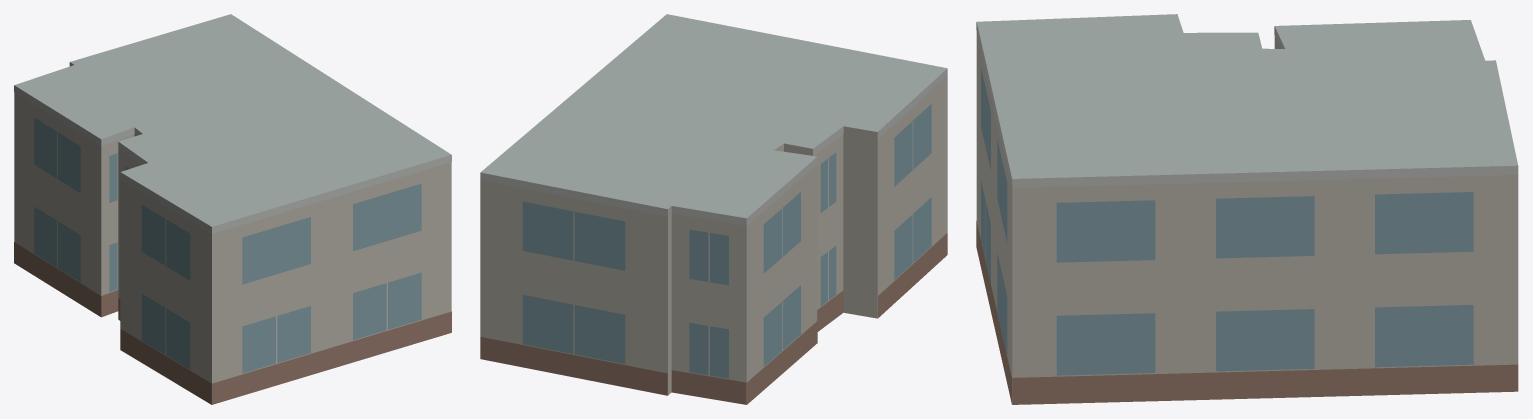
The model's file is survey-upis-32924186.glb.
3 renders of one model, left to right at view 1: azimuth 30°, elevation 25°; view 2: azimuth 150°, elevation 25°; view 3: azimuth 270°, elevation 25°, orthographic. The views are drawn at different scales.
Parts seen in each view (by area): view 1: survey-upis-32924186.tmp; view 2: survey-upis-32924186.tmp; view 3: survey-upis-32924186.tmp.
Part boxes in pixels (x1=…): survey-upis-32924186.tmp: x1=14, y1=14, x2=451, y2=404; survey-upis-32924186.tmp: x1=480, y1=14, x2=947, y2=404; survey-upis-32924186.tmp: x1=976, y1=14, x2=1518, y2=404.
Size of the model in its own units: 9.56 by 6.1 by 13.27.
